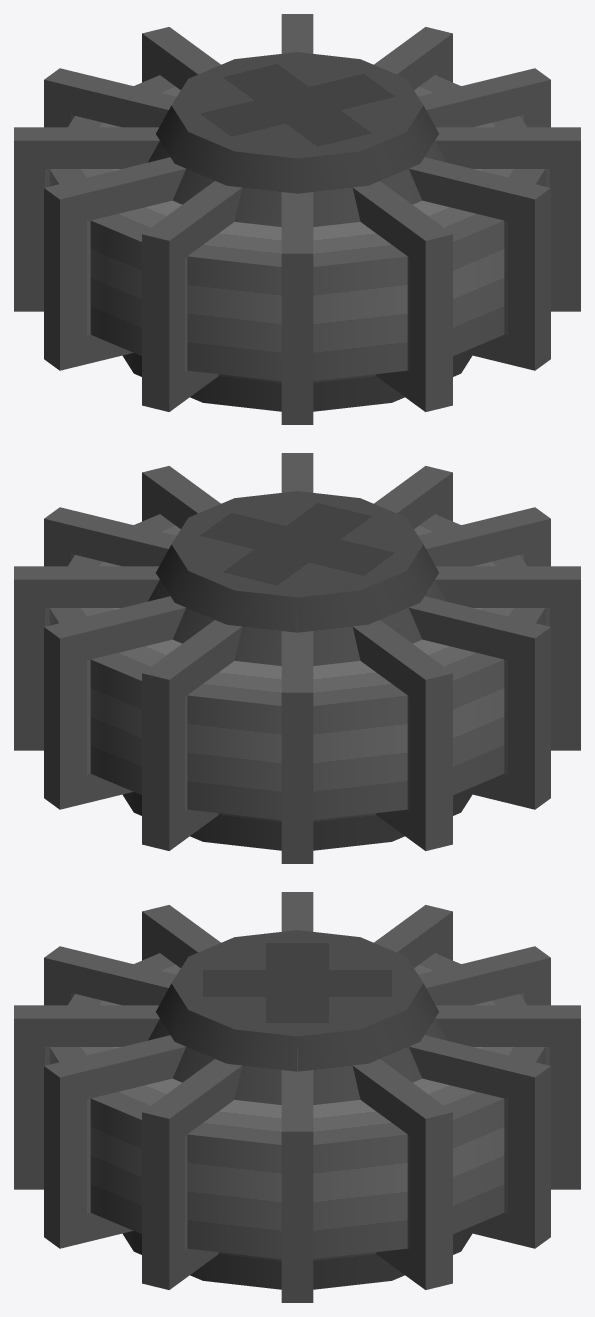
File: mine_ap_stone.obj
The picture shows the model from 3 angles, top to bottom: view 1: azimuth 30°, elevation 25°; view 2: azimuth 150°, elevation 25°; view 3: azimuth 270°, elevation 25°; orthographic projection.
Visible parts, largest first — view 1: Circle; view 2: Circle; view 3: Circle.
Boxes of the visible parts, box(x1,y1,x2,y2) form: Circle: box(14, 14, 580, 424); Circle: box(14, 453, 580, 863); Circle: box(14, 892, 580, 1302).
Bounding box in the file's own units: 1.12 × 0.5 × 1.12.
